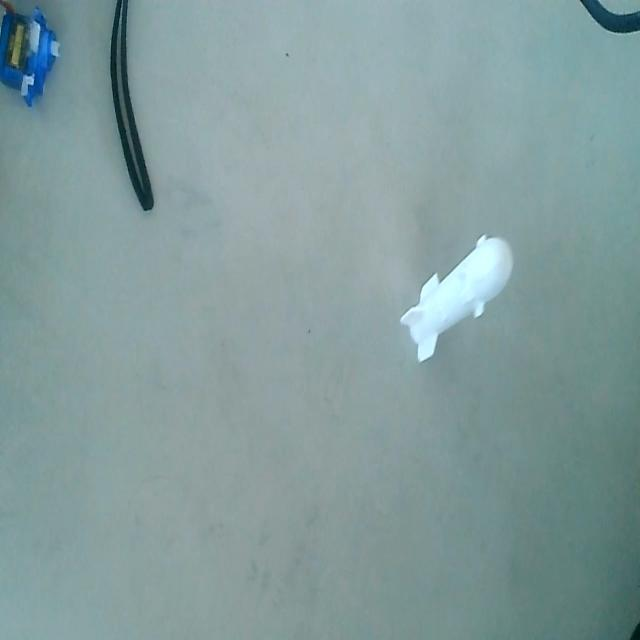Rocket: (400, 230, 514, 378)
